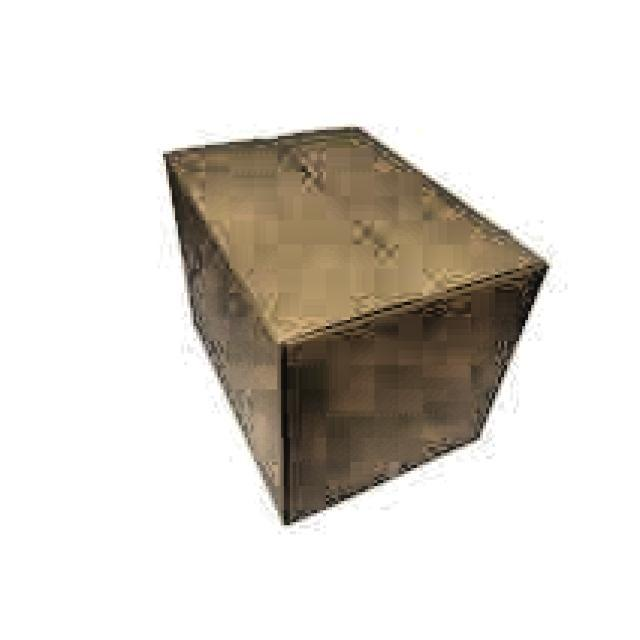cardboard: (162, 120, 552, 526)
